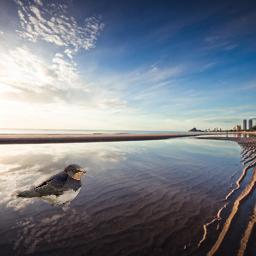Swallow: (16, 163, 86, 208)
